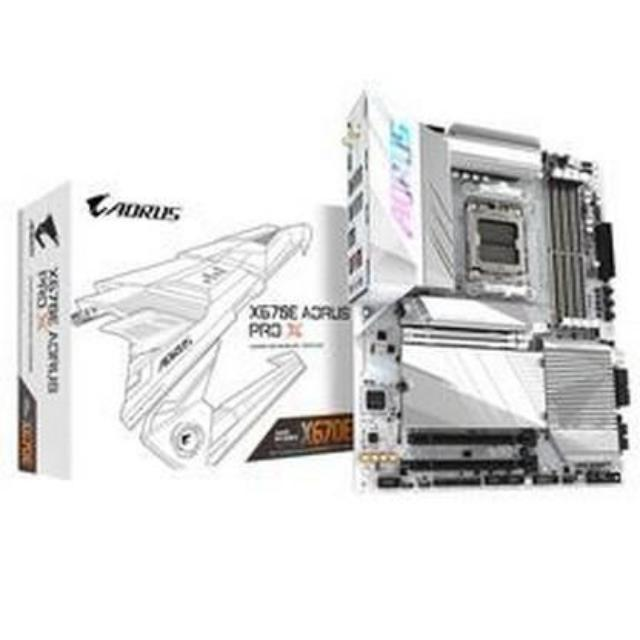Mainboard: (344, 96, 627, 498)
